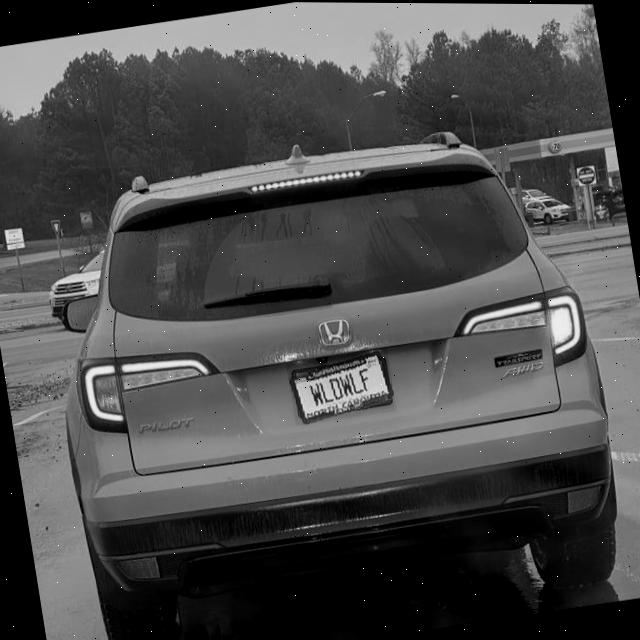LicensePlate: (289, 349, 395, 425)
